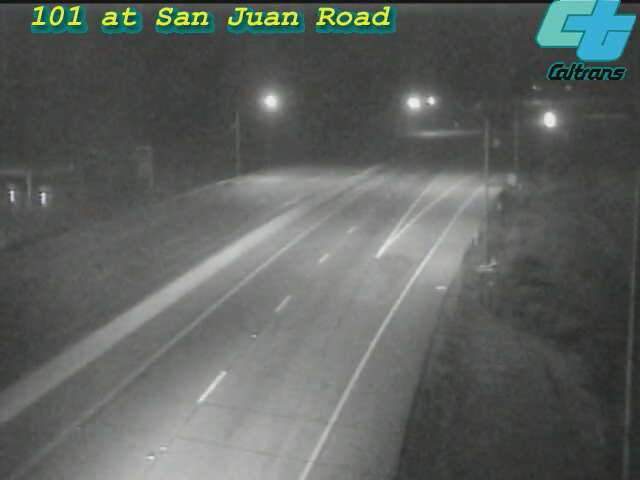vehicle: (523, 96, 573, 146)
